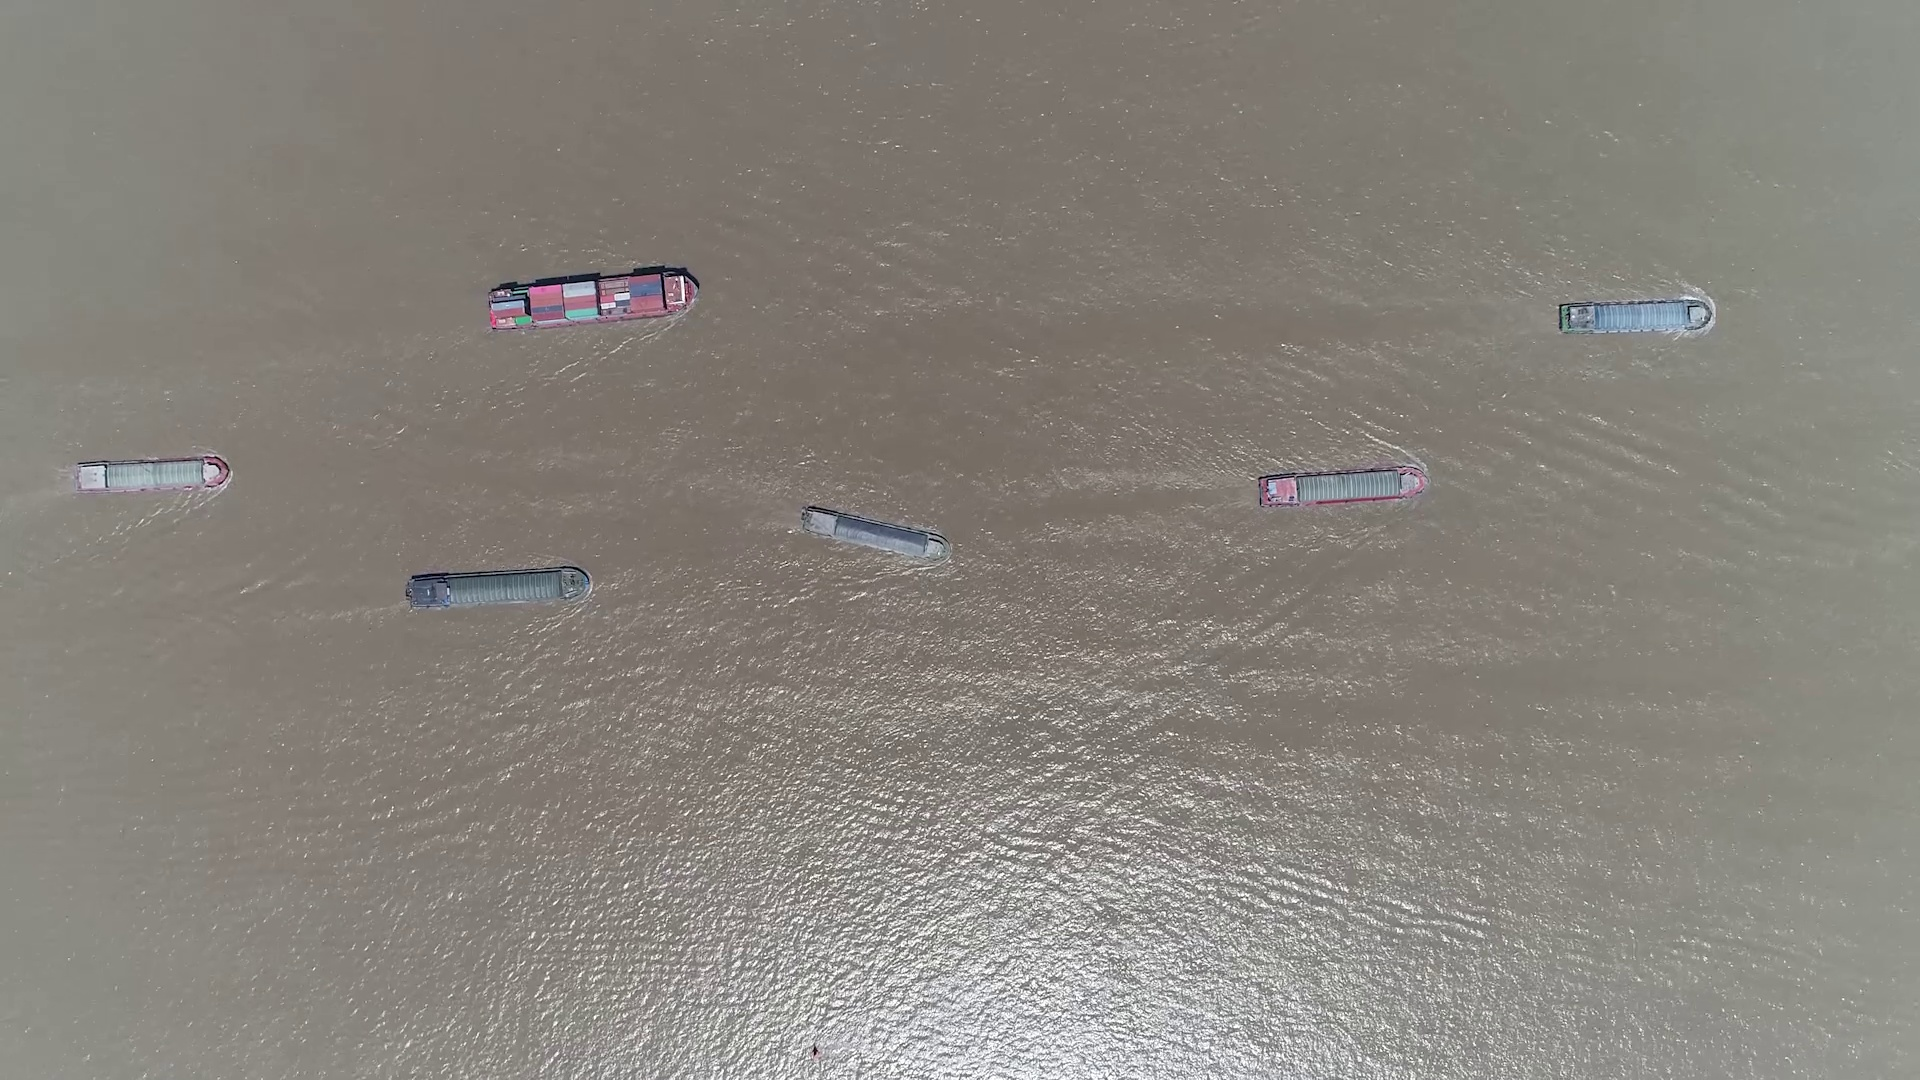ship: (488, 272, 699, 332), (798, 506, 948, 560), (406, 566, 589, 609), (1261, 465, 1427, 509), (73, 458, 228, 495), (1559, 301, 1712, 334)
